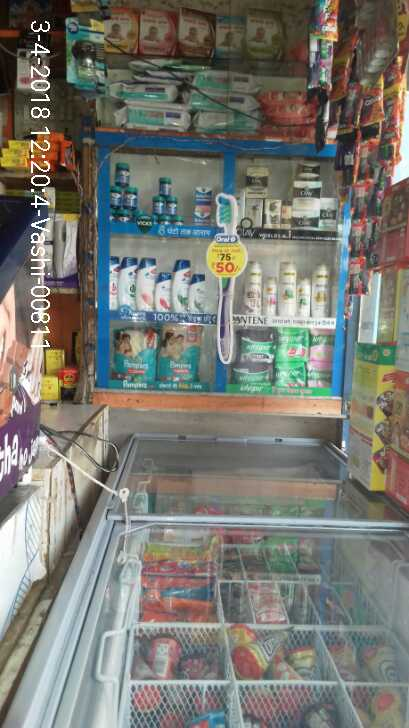vicks: (192, 188, 214, 211), (114, 163, 131, 185), (121, 188, 137, 206), (192, 214, 211, 226), (164, 196, 176, 214), (111, 186, 121, 206), (153, 196, 164, 214), (160, 176, 170, 194), (115, 209, 128, 219), (172, 217, 184, 224), (160, 216, 171, 223)
